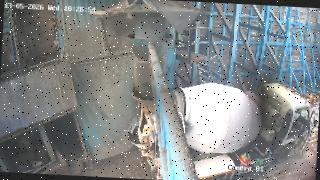cement_mixer_truck: (127, 77, 320, 180)
swing_chute: (127, 33, 174, 97)
